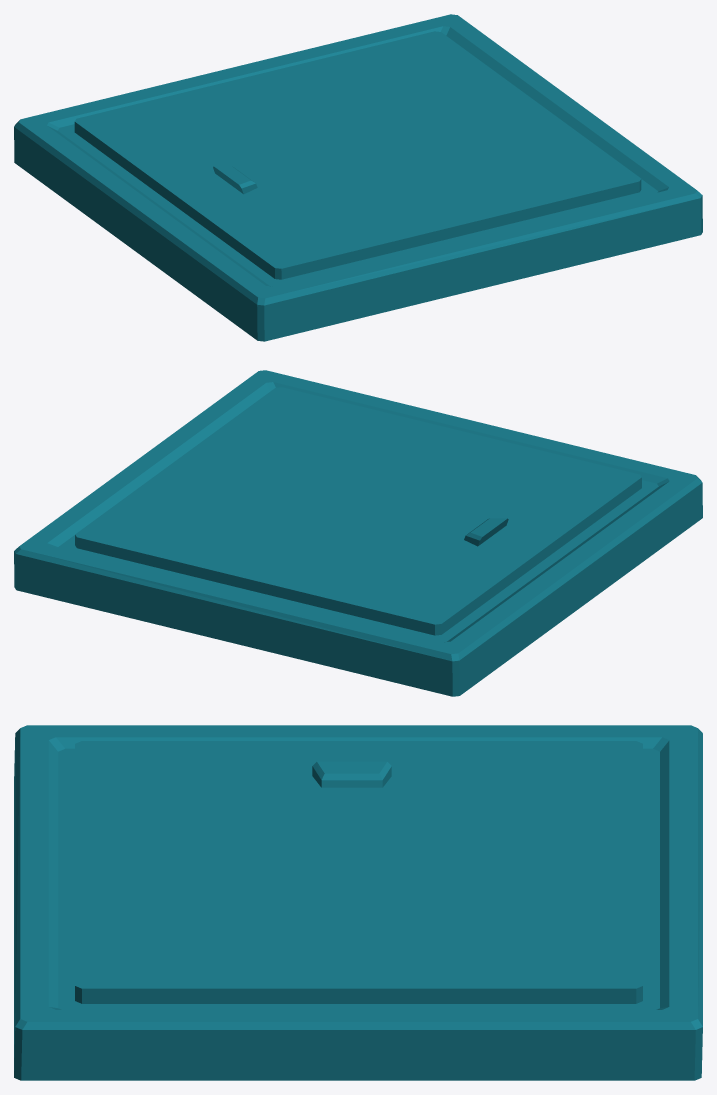
Rendered from Mesh_ArenaWall_Right_Door.FBX.
The picture shows the model from 3 angles, top to bottom: view 1: azimuth 30°, elevation 25°; view 2: azimuth 150°, elevation 25°; view 3: azimuth 270°, elevation 25°; orthographic projection. The views are drawn at different scales.
Parts seen in each view (by area): view 1: Mesh_ArenaWall_Right_Door; view 2: Mesh_ArenaWall_Right_Door; view 3: Mesh_ArenaWall_Right_Door.
Boxes of the visible parts, box(x1,y1,x2,y2) form: Mesh_ArenaWall_Right_Door: box(14, 14, 702, 341); Mesh_ArenaWall_Right_Door: box(14, 370, 702, 696); Mesh_ArenaWall_Right_Door: box(14, 725, 702, 1080).
Size of the model in its own units: 2573 by 2489 by 311.
